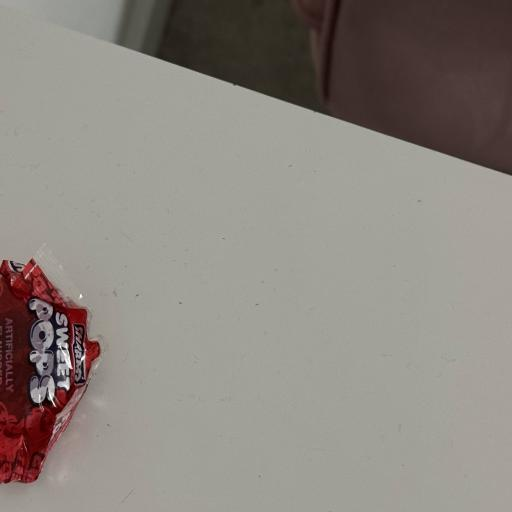chocolate: (0, 247, 100, 482)
